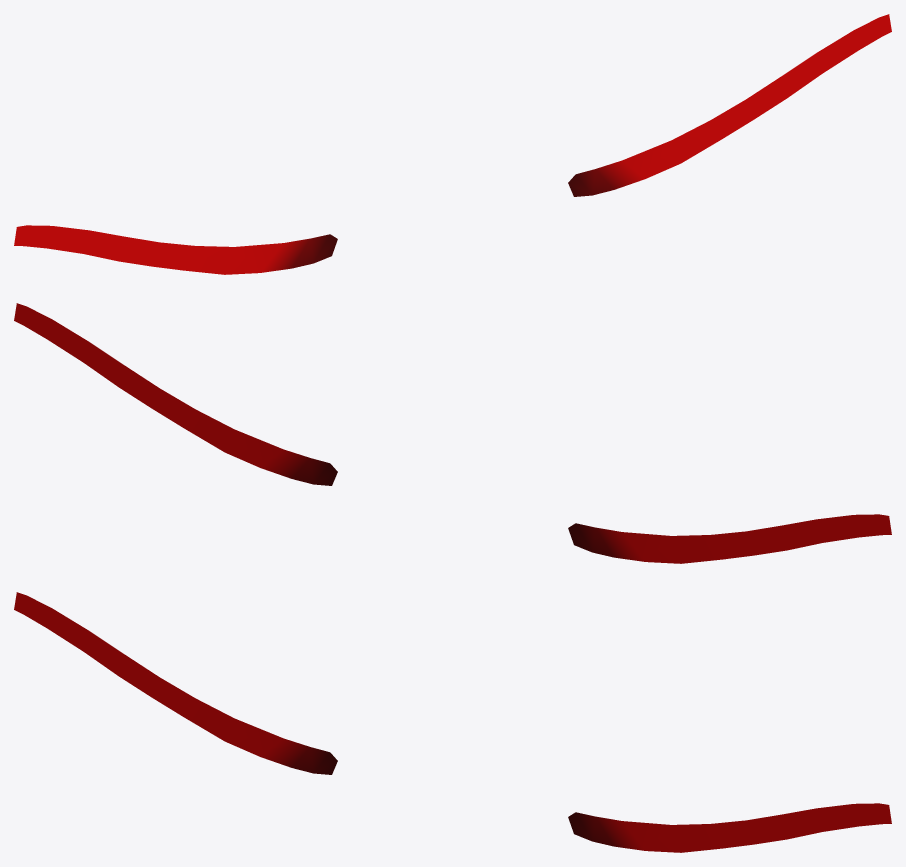
File: frame176.fbx
3 renders of one model, top to bottom at view 1: azimuth 30°, elevation 25°; view 2: azimuth 150°, elevation 25°; view 3: azimuth 330°, elevation 25°, orthographic.
Visible parts, largest first — view 1: MaterialLayer; view 2: MaterialLayer; view 3: MaterialLayer.
Boxes of the visible parts, <box> form: MaterialLayer: <box>14,14,891,274</box>; MaterialLayer: <box>14,303,891,563</box>; MaterialLayer: <box>14,592,891,852</box>.
Bounding box in the file's own units: 1531 × 182 × 0.
